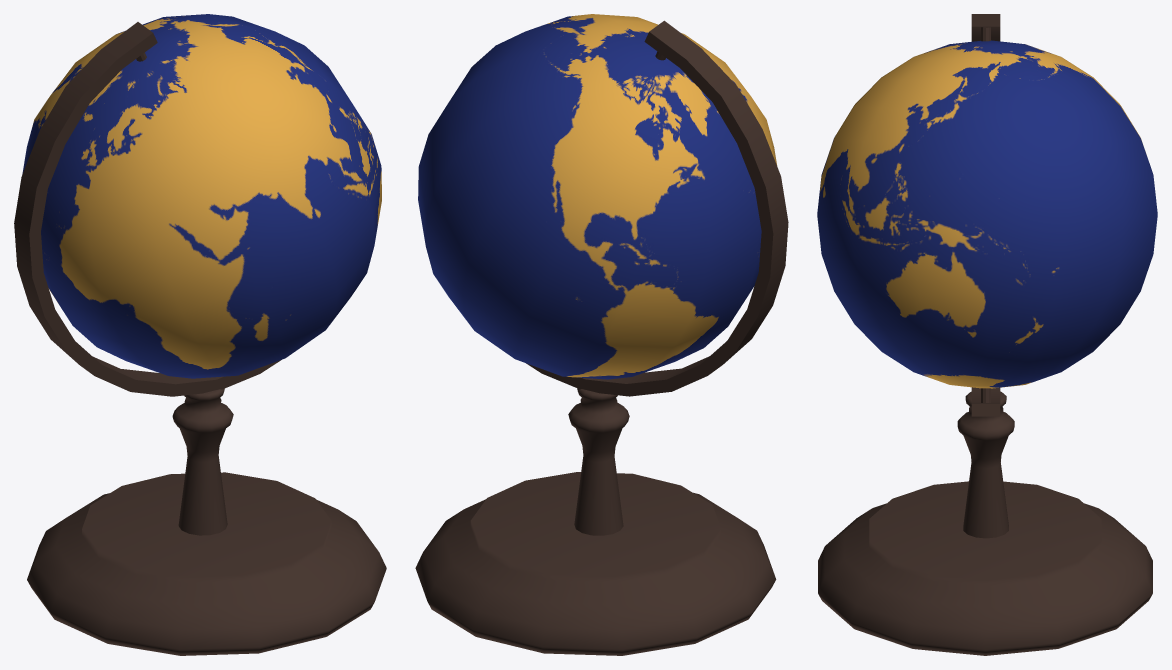
Rendered from globe.fbx.
3 views of the same model, side by side, from view 1: azimuth 30°, elevation 25°; view 2: azimuth 150°, elevation 25°; view 3: azimuth 270°, elevation 25° (orthographic). The views are drawn at different scales.
Visible parts, largest first — view 1: ball, globe; view 2: ball, globe; view 3: ball, globe.
Part boxes in pixels (x1=…): ball: x1=22, y1=14, x2=381, y2=378; globe: x1=14, y1=22, x2=386, y2=655; ball: x1=418, y1=14, x2=777, y2=379; globe: x1=415, y1=20, x2=788, y2=655; ball: x1=817, y1=40, x2=1157, y2=388; globe: x1=818, y1=14, x2=1152, y2=655.
Bounding box in the file's own units: 11.45 × 18.27 × 10.38.
Materials: 2 (1 with a texture image).
